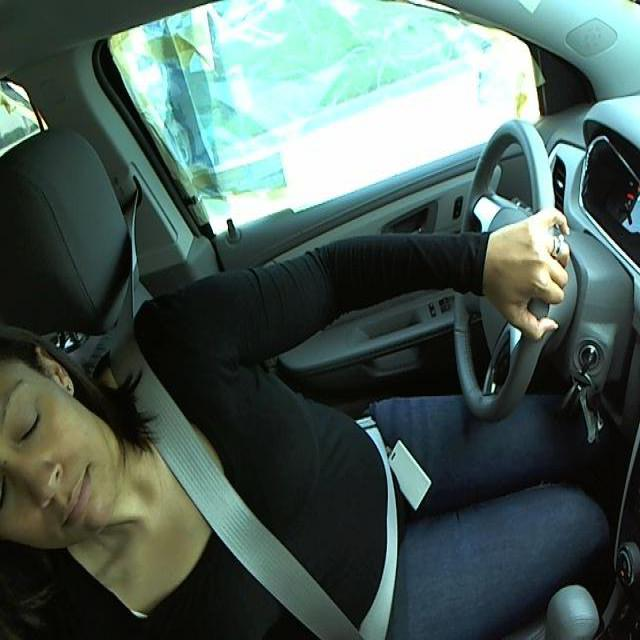seatbelt: (134, 398, 399, 638)
